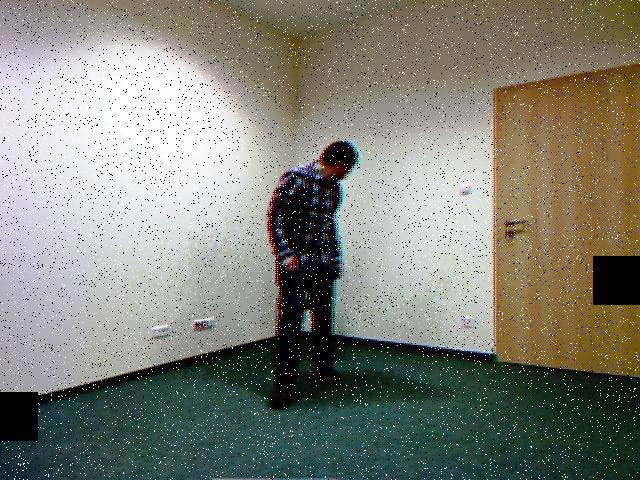walking: (259, 126, 371, 417)
